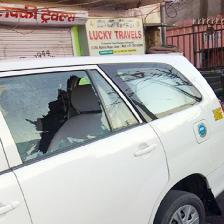glass_shatter: (11, 69, 105, 148)
